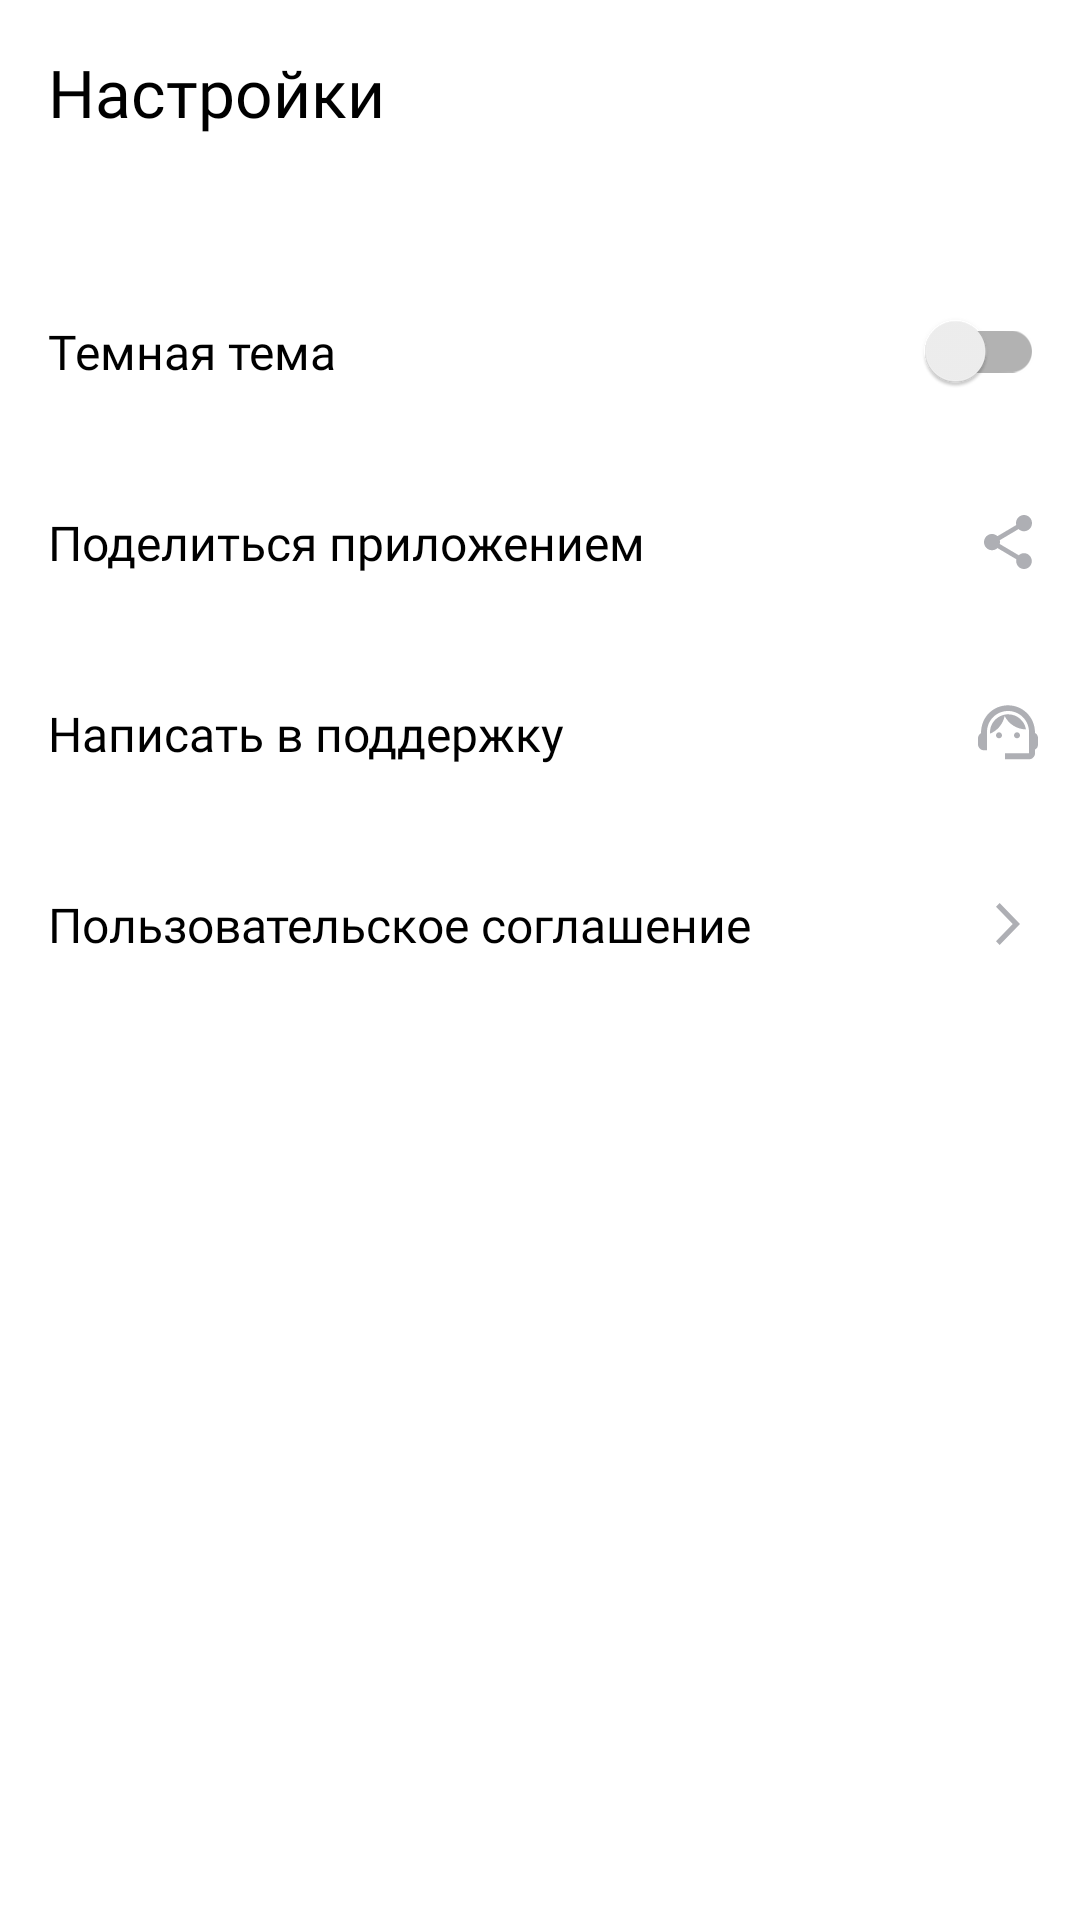

Point at icon controls on the screen. Image size 1080px x 1920px, points as (x=x, y=y).
vectorshare: (x=1008, y=542)
